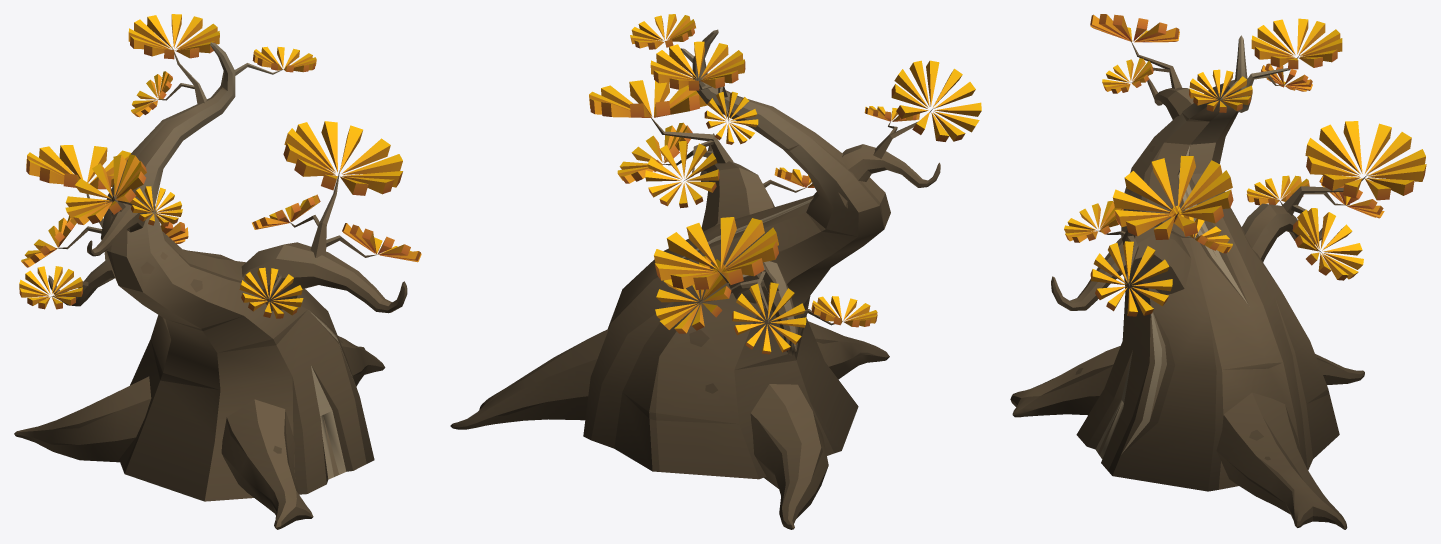
Rendered from ancient_tree_yellow_2.glb.
The picture shows the model from 3 angles, left to right: view 1: azimuth 30°, elevation 25°; view 2: azimuth 150°, elevation 25°; view 3: azimuth 270°, elevation 25°; orthographic projection. The views are drawn at different scales.
Visible parts, largest first — view 1: ancient_tree_yellow_2; view 2: ancient_tree_yellow_2; view 3: ancient_tree_yellow_2.
Part boxes in pixels (x1,y1,x2,y2): ancient_tree_yellow_2: (14,14,421,529); ancient_tree_yellow_2: (450,14,981,529); ancient_tree_yellow_2: (1010,14,1426,529).
Bounding box in the file's own units: 6.05 × 5.9 × 5.48.
Materials: 1 (1 with a texture image).
